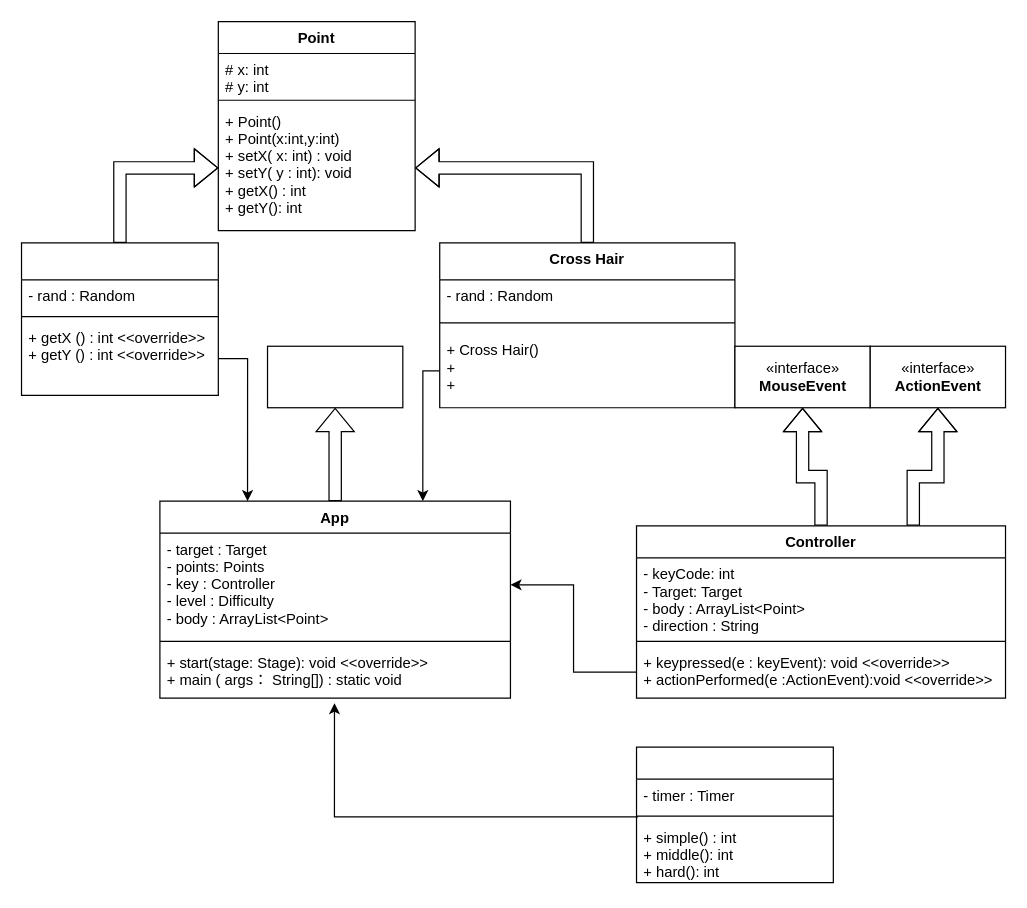
Some shapes in this 1027 by 908 pixel diagram are drawn without their labels. Each missing label, with the box of its shape:
Application: (266, 345, 403, 408)
Difficulty: (635, 746, 833, 883)
Target: (20, 242, 218, 395)
